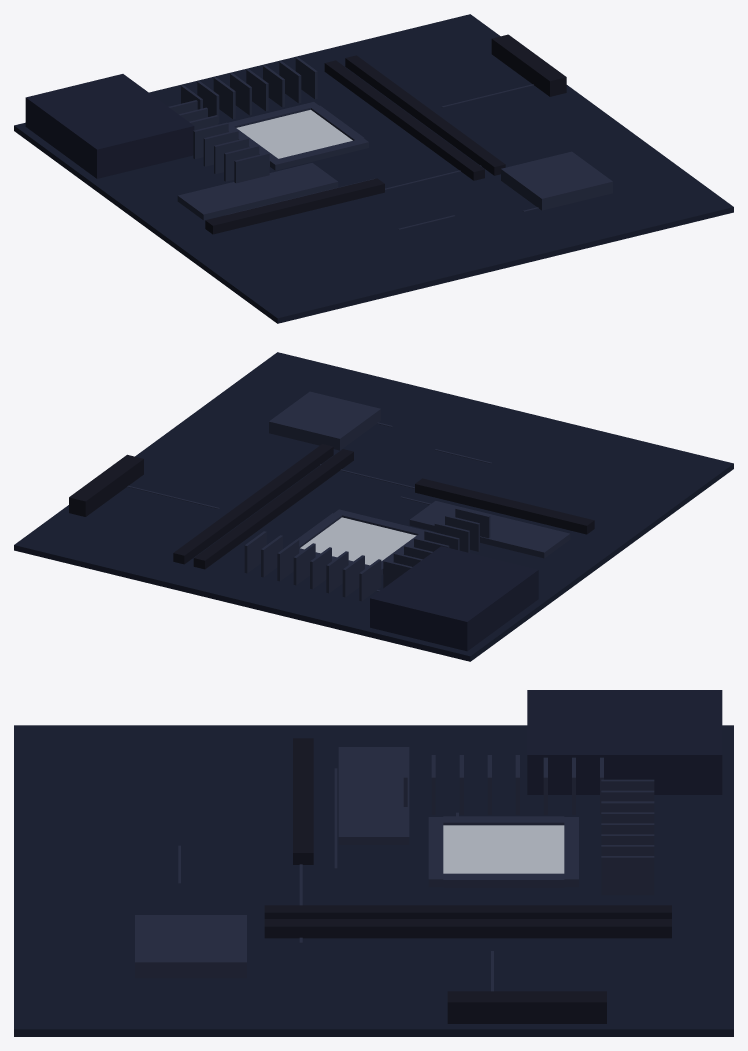
Rendered from motherboard-matx.glb.
The picture shows the model from 3 angles, top to bottom: view 1: azimuth 30°, elevation 25°; view 2: azimuth 150°, elevation 25°; view 3: azimuth 270°, elevation 25°; orthographic projection. The views are drawn at different scales.
Parts seen in each view (by area): view 1: pcb, io_shroud, ram_slots, m2_heatsinks, vrm_heatsink_top, chipset_heatsink, vrm_heatsink_left, cpu_socket, pcie_slots, retention_frame, atx_24pin, traces; view 2: pcb, io_shroud, ram_slots, vrm_heatsink_top, chipset_heatsink, m2_heatsinks, vrm_heatsink_left, pcie_slots, cpu_socket, atx_24pin, retention_frame, traces; view 3: pcb, io_shroud, ram_slots, chipset_heatsink, m2_heatsinks, vrm_heatsink_top, cpu_socket, atx_24pin, retention_frame, pcie_slots, vrm_heatsink_left, traces.
Boxes of the visible parts, left/top/right/bottom form: pcb: left=14, top=14, right=733, bottom=323; io_shroud: left=25, top=74, right=194, bottom=178; ram_slots: left=324, top=55, right=505, bottom=180; m2_heatsinks: left=177, top=163, right=338, bottom=220; vrm_heatsink_top: left=181, top=57, right=317, bottom=122; chipset_heatsink: left=501, top=151, right=612, bottom=210; vrm_heatsink_left: left=168, top=100, right=269, bottom=183; cpu_socket: left=236, top=110, right=352, bottom=158; pcie_slots: left=205, top=178, right=384, bottom=234; retention_frame: left=228, top=102, right=368, bottom=170; atx_24pin: left=491, top=34, right=566, bottom=96; traces: left=225, top=84, right=538, bottom=229; pcb: left=14, top=352, right=733, bottom=661; io_shroud: left=370, top=546, right=538, bottom=651; ram_slots: left=173, top=444, right=353, bottom=569; vrm_heatsink_top: left=244, top=531, right=381, bottom=601; chipset_heatsink: left=269, top=391, right=380, bottom=450; m2_heatsinks: left=409, top=501, right=570, bottom=558; vrm_heatsink_left: left=383, top=507, right=490, bottom=588; pcie_slots: left=415, top=478, right=594, bottom=534; cpu_socket: left=300, top=517, right=416, bottom=565; atx_24pin: left=69, top=454, right=143, bottom=516; retention_frame: left=297, top=509, right=424, bottom=575; traces: left=127, top=422, right=491, bottom=591; pcb: left=14, top=725, right=733, bottom=1036; io_shroud: left=527, top=690, right=722, bottom=794; ram_slots: left=264, top=905, right=671, bottom=938; chipset_heatsink: left=135, top=915, right=246, bottom=978; m2_heatsinks: left=338, top=747, right=409, bottom=844; vrm_heatsink_top: left=601, top=779, right=654, bottom=895; cpu_socket: left=443, top=825, right=564, bottom=873; atx_24pin: left=447, top=991, right=606, bottom=1023; retention_frame: left=428, top=816, right=578, bottom=887; pcie_slots: left=293, top=738, right=313, bottom=864; vrm_heatsink_left: left=403, top=755, right=603, bottom=814; traces: left=178, top=768, right=493, bottom=991.
Bounding box in the file's own units: 244 × 17.8 × 244.
